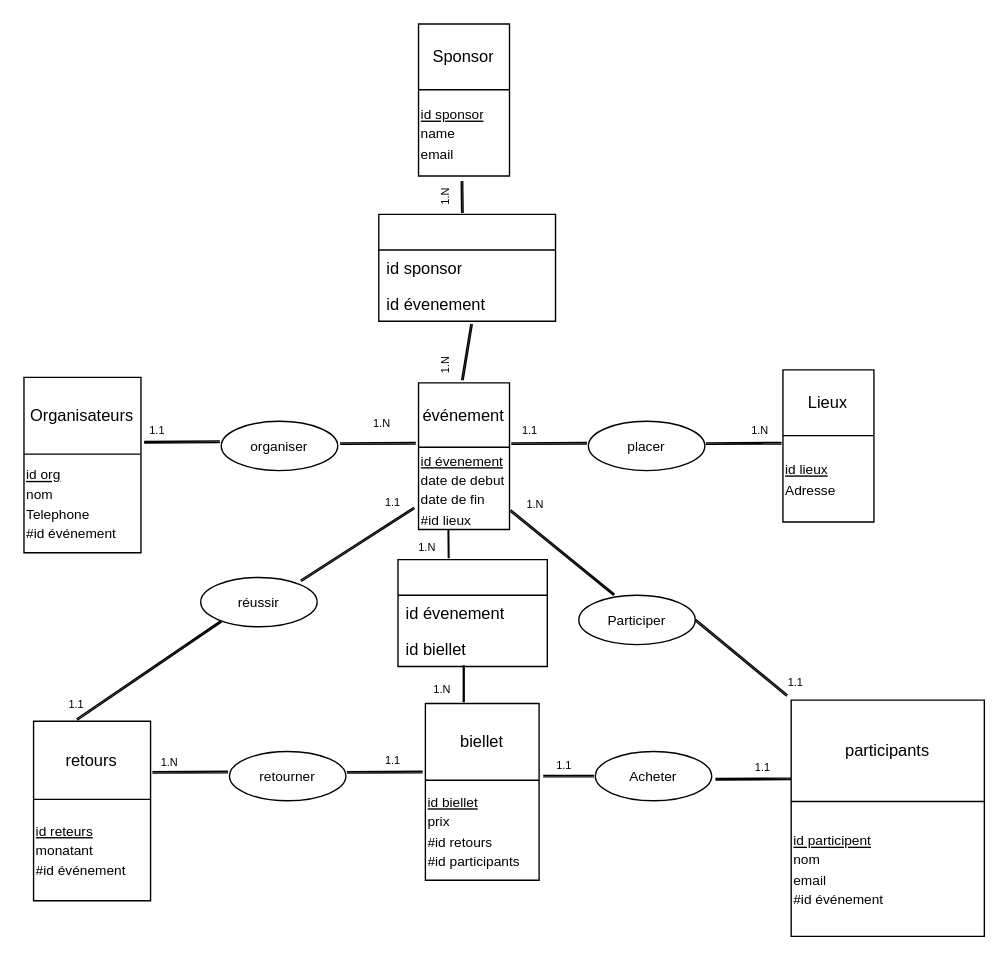
The diagram is 1008 pixels wide and 962 high, and some of its shapes have lost their labels. Each missing label, with the box of its shape:
Distrubier: (397, 558, 547, 667)
Sponsoring: (377, 213, 556, 321)
